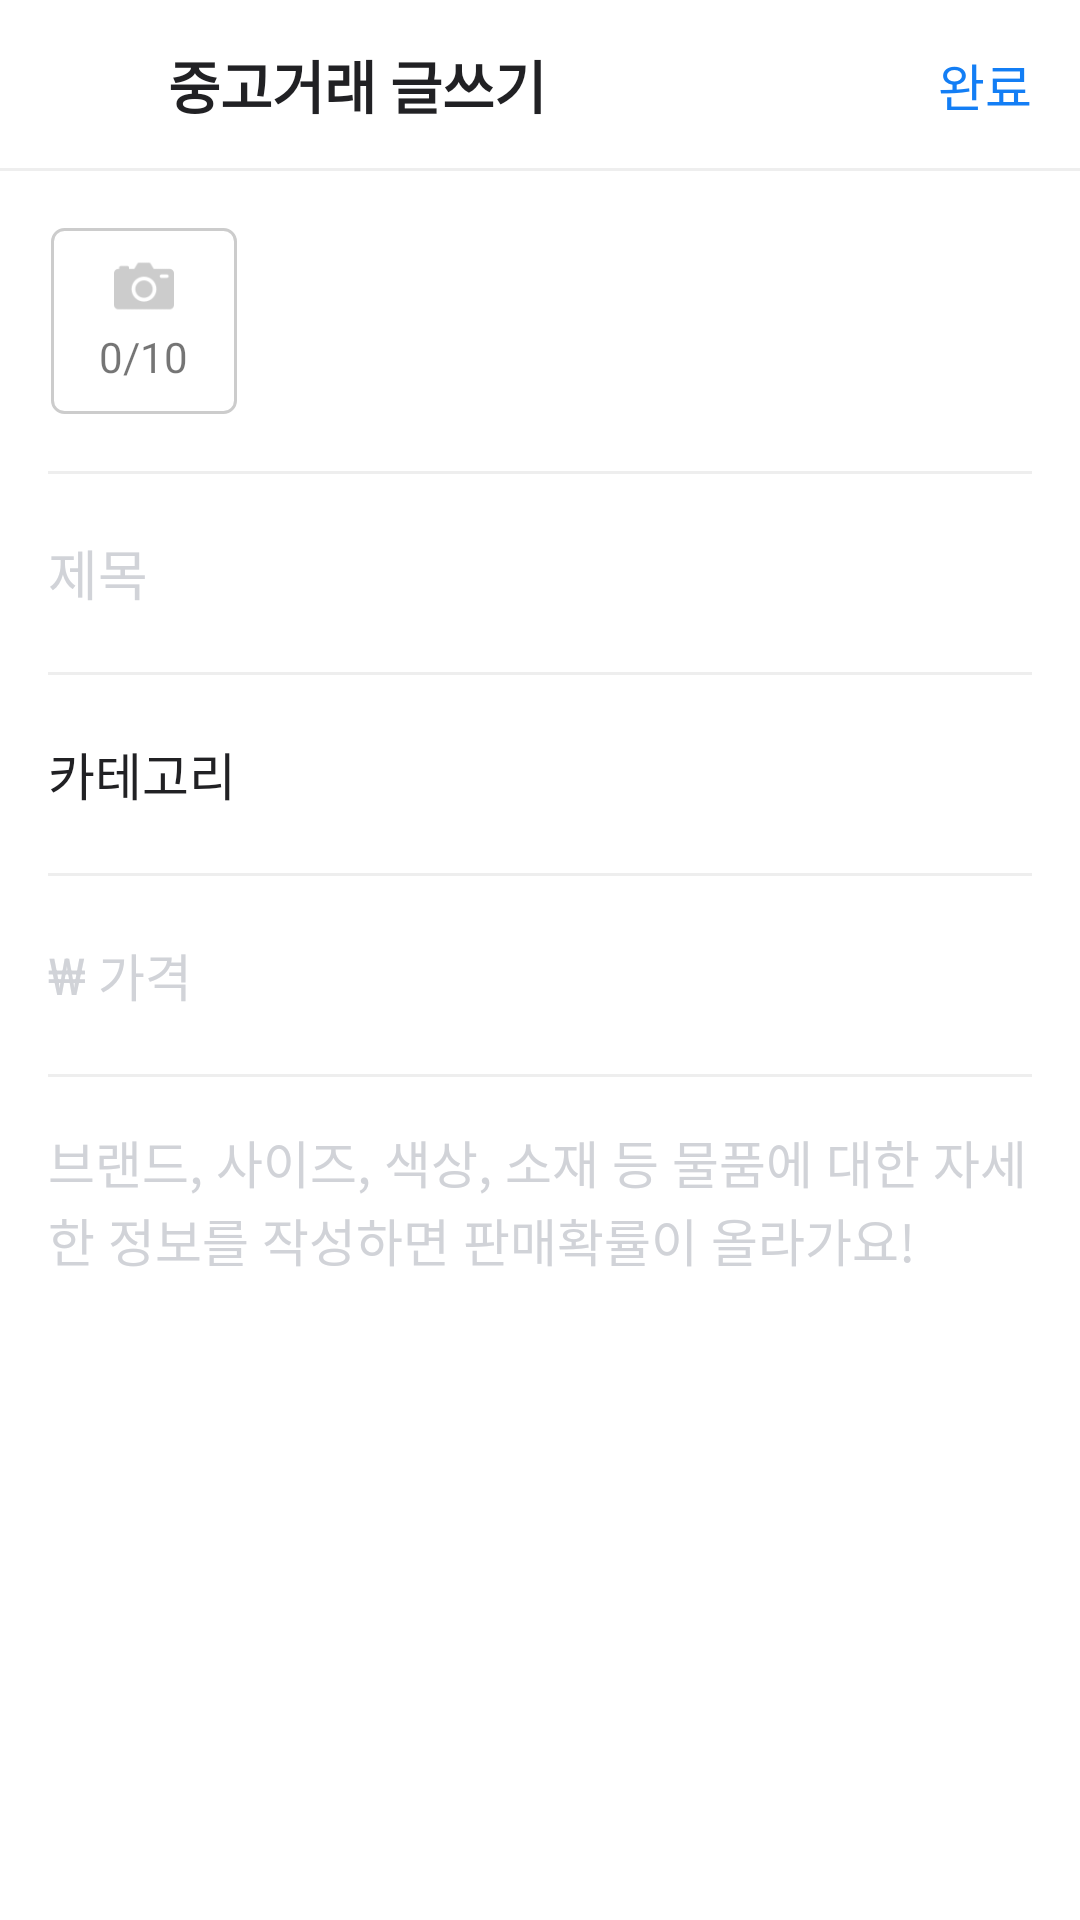

Icons on this 1080px x 1920px Android screen, each with the point to tap as (x,y):
camera: (144,286)
